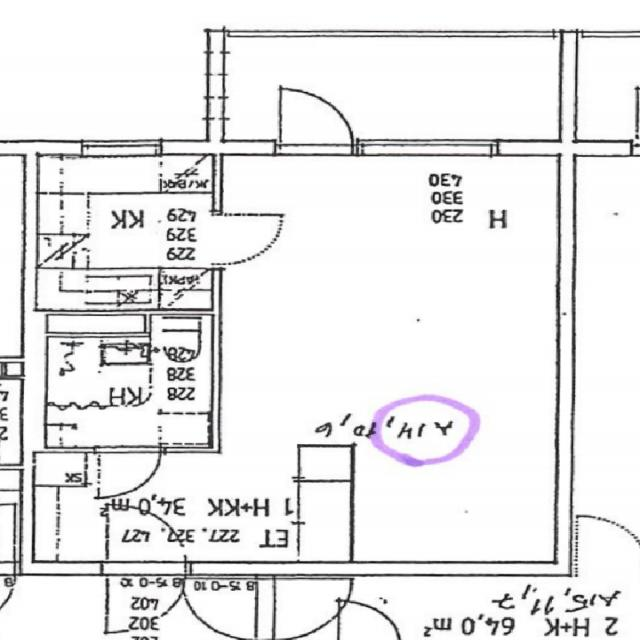door: (106, 561, 186, 634), (106, 502, 186, 575), (279, 86, 352, 154), (99, 446, 160, 499)
